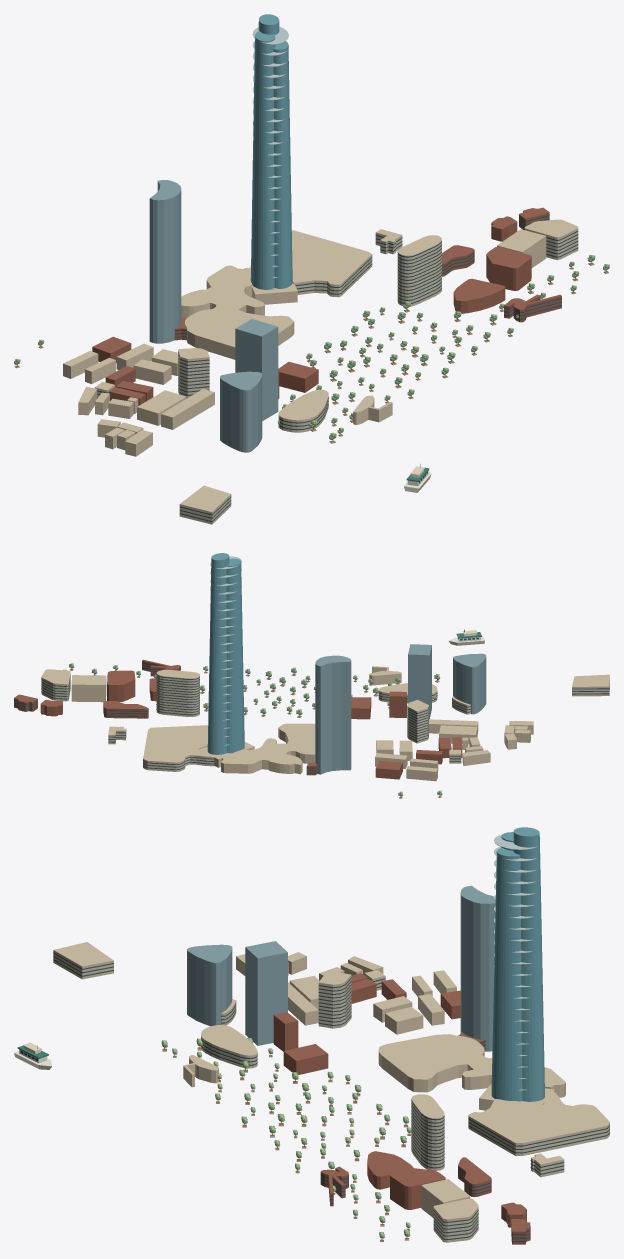
3 renders of one model, top to bottom at view 1: azimuth 30°, elevation 25°; view 2: azimuth 150°, elevation 25°; view 3: azimuth 270°, elevation 25°, orthographic. The views are drawn at different scales.
Visible parts, largest first — view 1: white-magnolia.001, osm-way-1318376930, osm-way-442978944, osm-way-1318376929, osm-way-177714724, osm-way-446937832, osm-way-534041306, osm-way-534041361, osm-way-656626139, osm-way-446937839, osm-way-446933527, osm-way-534041354 (+9 smaller); view 2: white-magnolia.001, osm-way-442978944, osm-way-1318376930, osm-way-1318376929, osm-way-534041306, osm-way-177714724, osm-way-446937832, osm-way-446937839, osm-way-534041354, osm-way-534041361, osm-way-446933527, osm-way-534041326 (+13 smaller); view 3: white-magnolia.001, osm-way-1318376929, osm-way-1318376930, osm-way-442978944, osm-way-446937832, osm-way-177714724, osm-way-534041306, osm-way-446937839, osm-way-656626139, osm-way-534041354, osm-way-446933527, osm-way-534041361 (+14 smaller).
Part boxes in pixels (x1,y1,x2,y2): white-magnolia.001: [244, 14, 297, 304]; osm-way-1318376930: [181, 265, 294, 359]; osm-way-442978944: [149, 180, 181, 343]; osm-way-1318376929: [250, 230, 372, 297]; osm-way-177714724: [220, 371, 262, 452]; osm-way-446937832: [235, 319, 278, 420]; osm-way-534041306: [397, 235, 441, 306]; osm-way-534041361: [486, 246, 531, 290]; osm-way-656626139: [278, 389, 328, 432]; osm-way-446937839: [178, 348, 209, 398]; osm-way-446933527: [179, 485, 231, 524]; osm-way-534041354: [524, 219, 578, 260]; white-magnolia.001: [199, 553, 254, 767]; osm-way-442978944: [315, 655, 351, 774]; osm-way-1318376930: [221, 723, 315, 774]; osm-way-1318376929: [143, 725, 214, 771]; osm-way-534041306: [156, 670, 199, 716]; osm-way-177714724: [453, 653, 486, 714]; osm-way-446937832: [408, 644, 431, 719]; osm-way-446937839: [407, 700, 428, 743]; osm-way-534041354: [41, 669, 70, 701]; osm-way-534041361: [107, 670, 135, 701]; osm-way-446933527: [572, 674, 609, 696]; osm-way-534041326: [74, 675, 102, 702]; white-magnolia.001: [479, 827, 554, 1110]; osm-way-1318376929: [468, 1091, 609, 1155]; osm-way-1318376930: [378, 1034, 565, 1097]; osm-way-442978944: [460, 885, 495, 1051]; osm-way-446937832: [245, 941, 287, 1045]; osm-way-177714724: [187, 944, 232, 1026]; osm-way-534041306: [411, 1094, 444, 1170]; osm-way-446937839: [318, 971, 351, 1028]; osm-way-656626139: [201, 1025, 257, 1068]; osm-way-534041354: [433, 1198, 478, 1242]; osm-way-446933527: [53, 942, 113, 979]; osm-way-534041361: [390, 1168, 445, 1209].
Size of the model in its own units: 723 by 320 by 628.
